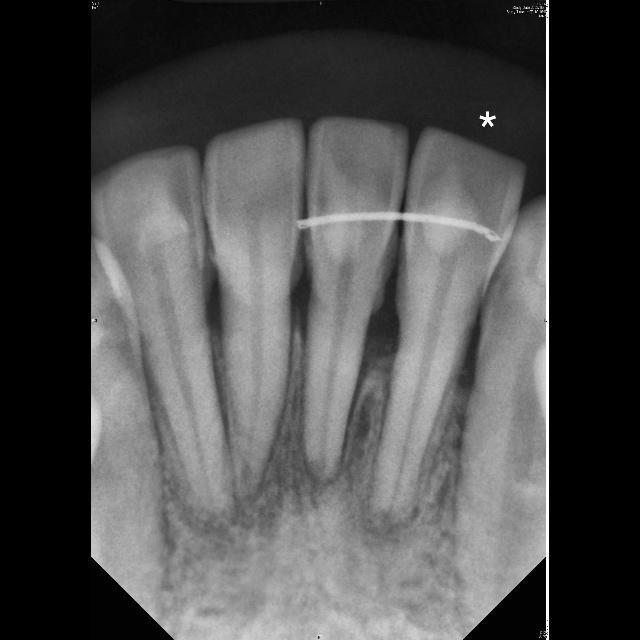test-segment: (373, 126, 527, 515)
